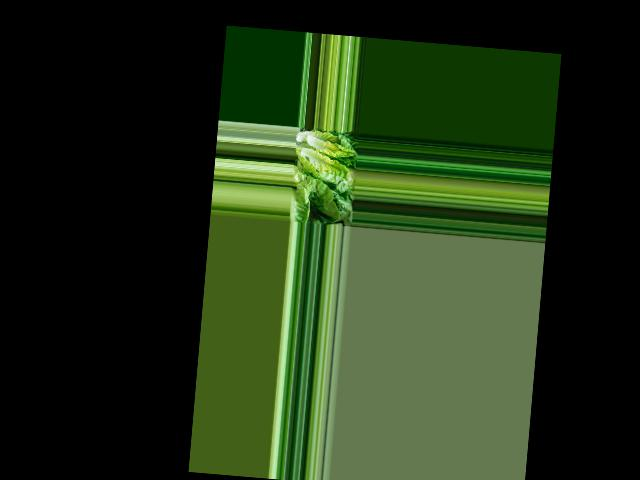lettuce: (291, 128, 355, 194)
